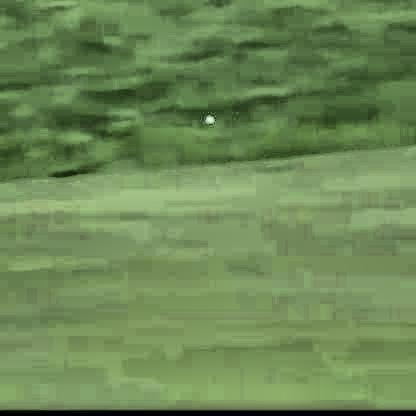golfball: (201, 114, 212, 124)
